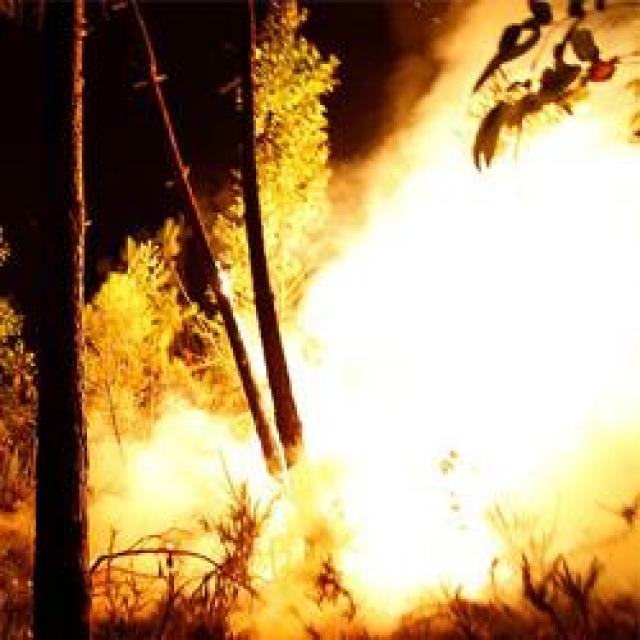fire: (273, 138, 640, 640)
